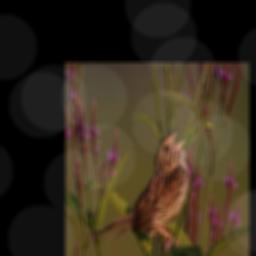Sparrow: (93, 126, 190, 256)
